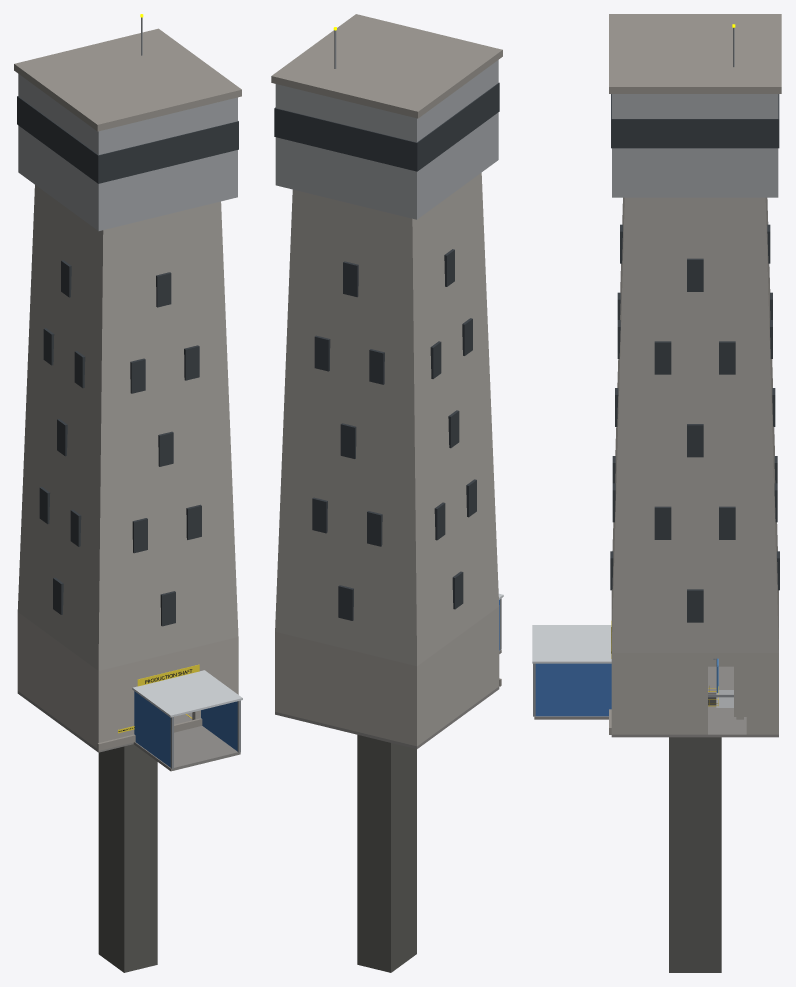
The model's file is headgear.glb.
3 renders of one model, left to right at view 1: azimuth 30°, elevation 25°; view 2: azimuth 150°, elevation 25°; view 3: azimuth 270°, elevation 25°, orthographic. The views are drawn at different scales.
Parts seen in each view (by area): view 1: HG_Tower, HG_Shaft_Lining, HG_BankHall_Walls, HG_Entrance_Canopy, HG_BankCeiling, HG_BankFloor; view 2: HG_Tower, HG_BankHall_Walls, HG_Shaft_Lining, HG_BankCeiling, HG_BankFloor; view 3: HG_Tower, HG_Shaft_Lining, HG_BankHall_Walls, HG_Entrance_Canopy, HG_BankFloor, HG_BankCeiling.
Part boxes in pixels (x1,y1,x2,y2): HG_Tower: (14, 14, 241, 670); HG_Shaft_Lining: (98, 744, 157, 972); HG_BankHall_Walls: (17, 618, 238, 750); HG_Entrance_Canopy: (132, 670, 242, 771); HG_BankCeiling: (17, 612, 238, 676); HG_BankFloor: (17, 691, 192, 752); HG_Tower: (271, 14, 502, 666); HG_BankHall_Walls: (275, 612, 501, 746); HG_Shaft_Lining: (357, 735, 416, 972); HG_BankCeiling: (275, 606, 499, 671); HG_BankFloor: (275, 686, 499, 748); HG_Tower: (609, 14, 781, 652); HG_Shaft_Lining: (669, 697, 721, 972); HG_BankHall_Walls: (609, 658, 778, 734); HG_Entrance_Canopy: (532, 625, 611, 719); HG_BankFloor: (611, 666, 778, 737); HG_BankCeiling: (611, 653, 778, 659).
Size of the model in its own units: 26.84 by 164 by 38.72.
